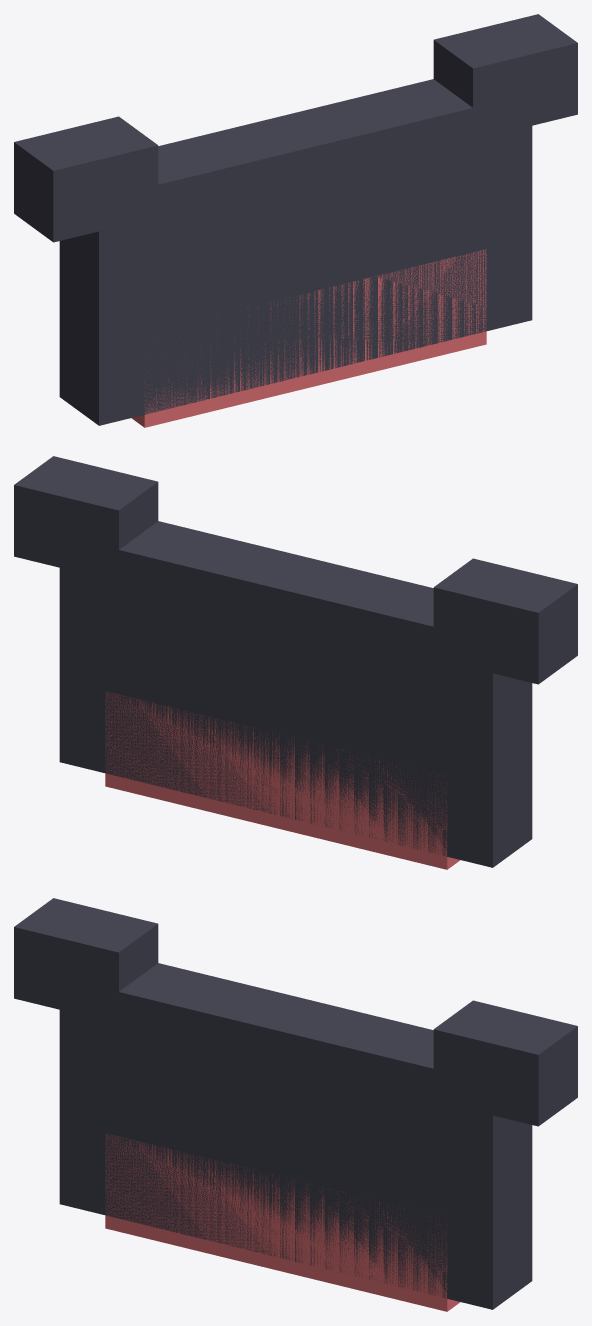
The model's file is feliz.glb.
The picture shows the model from 3 angles, top to bottom: view 1: azimuth 30°, elevation 25°; view 2: azimuth 150°, elevation 25°; view 3: azimuth 330°, elevation 25°; orthographic projection.
Visible parts, largest first — view 1: feliz; view 2: feliz; view 3: feliz.
Part boxes in pixels (x1,y1,x2,y2): feliz: [14, 14, 577, 427]; feliz: [14, 456, 577, 869]; feliz: [14, 898, 577, 1311].
Size of the model in its own units: 0.23 by 0.117 by 0.03.
